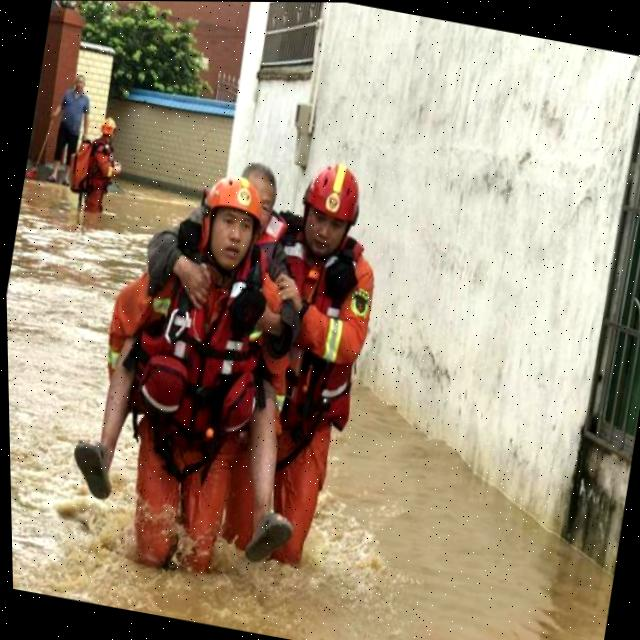civilian: (46, 114, 359, 569), (33, 63, 98, 196)
rescuer: (58, 145, 325, 599), (197, 129, 431, 611), (64, 103, 148, 230)
